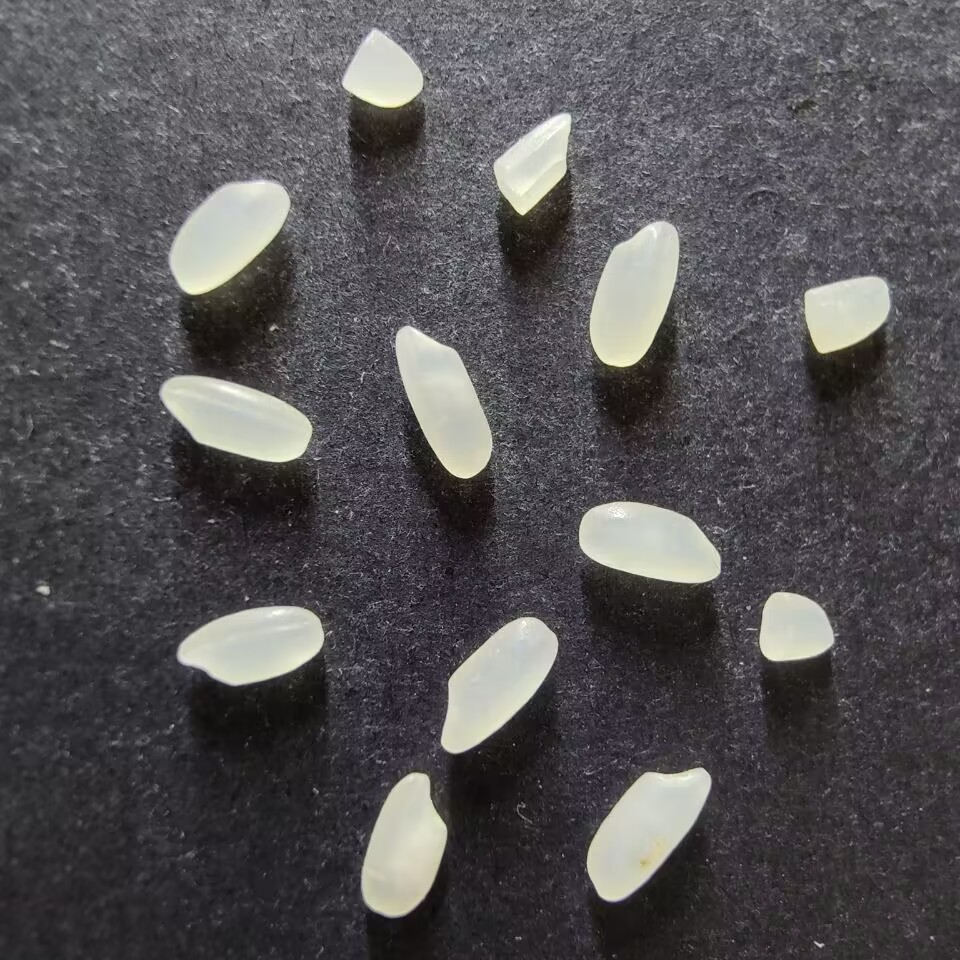broken: (493, 113, 572, 215), (802, 276, 890, 354), (341, 27, 423, 108), (759, 591, 835, 662)
rice: (585, 766, 711, 901), (439, 617, 559, 754), (394, 323, 493, 479), (168, 179, 289, 295), (588, 220, 680, 367), (159, 375, 312, 462), (360, 772, 447, 918), (175, 605, 325, 687), (578, 501, 722, 584)
